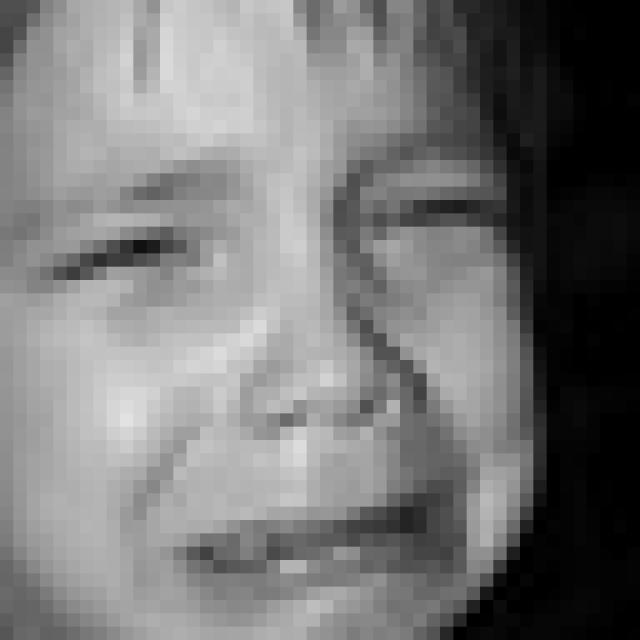sad: (0, 122, 509, 607)
